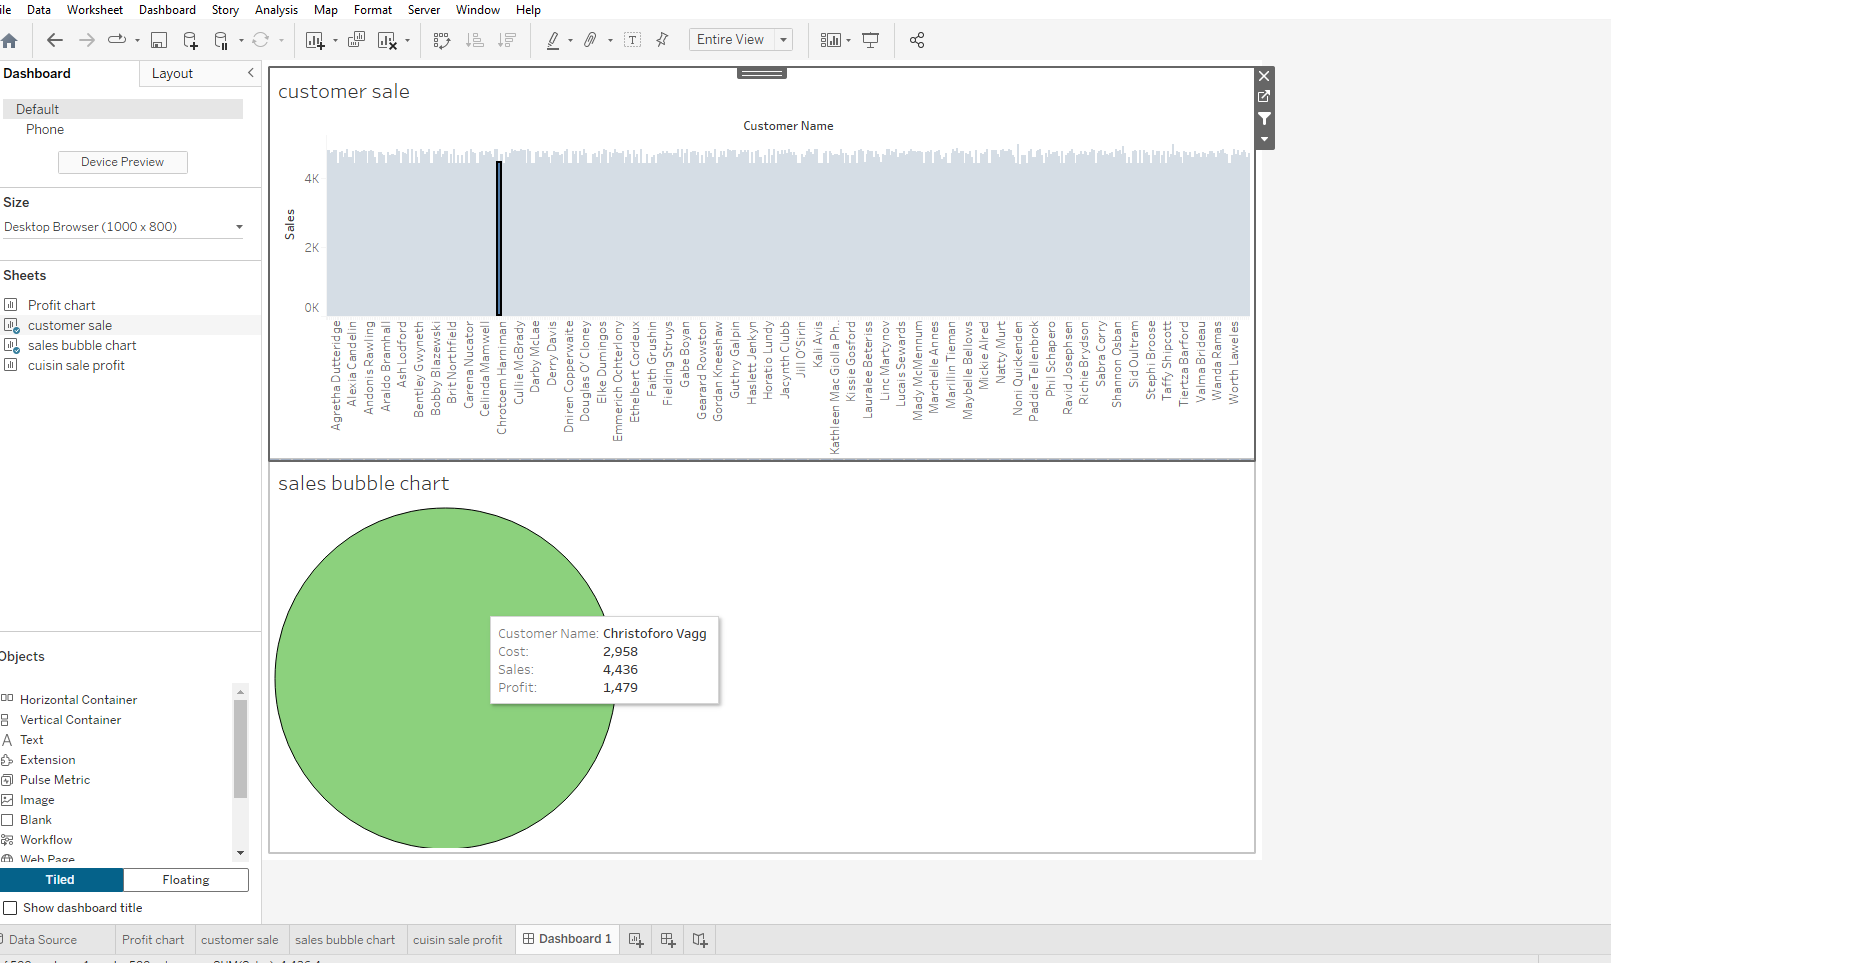

What the dashboard file says about the page in this screenshot:
{"tool":"tableau","page":{"name":"Dashboard 1","canvas":[1000,800],"ordinal":0},"visuals":[{"type":"worksheet","title":"customer sale","mark":"Automatic","rows":["Sales"],"cols":["Customer Name"],"box":[8,8,984,392]},{"type":"worksheet","title":"sales bubble chart","mark":"Circle","box":[8,400,984,392]}]}

Visuals, with their boxes on the page's 1000x800 design canvas (x1, y1, x2, y2). These are canvas units, not pixel positions in the 1860x963 screenshot, which may show the page scaled, cropped or inside an application window:
"customer sale" worksheet: box=[8, 8, 992, 400]
"sales bubble chart" worksheet (Circle marks): box=[8, 400, 992, 792]
